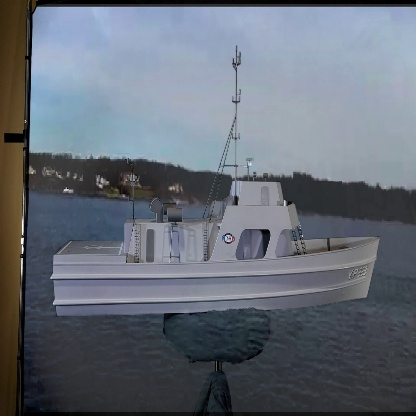YP689: (45, 33, 380, 319)
